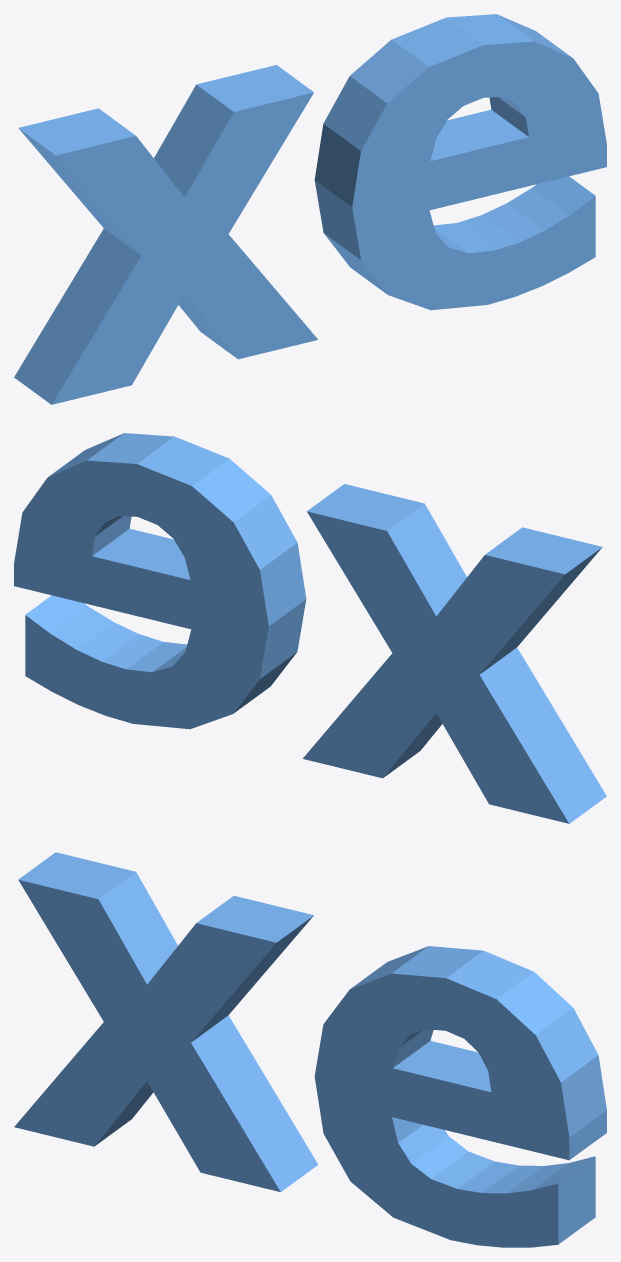
The model's file is suku_kecil_xe.glb.
3 views of the same model, one above another, from view 1: azimuth 30°, elevation 25°; view 2: azimuth 150°, elevation 25°; view 3: azimuth 330°, elevation 25° (orthographic).
Visible parts, largest first — view 1: geometry_0; view 2: geometry_0; view 3: geometry_0.
Part boxes in pixels (x1=…): geometry_0: x1=14, y1=14, x2=606, y2=404; geometry_0: x1=14, y1=433, x2=606, y2=823; geometry_0: x1=14, y1=852, x2=606, y2=1247.
Size of the model in its own units: 12.79 by 5.74 by 1.5.
